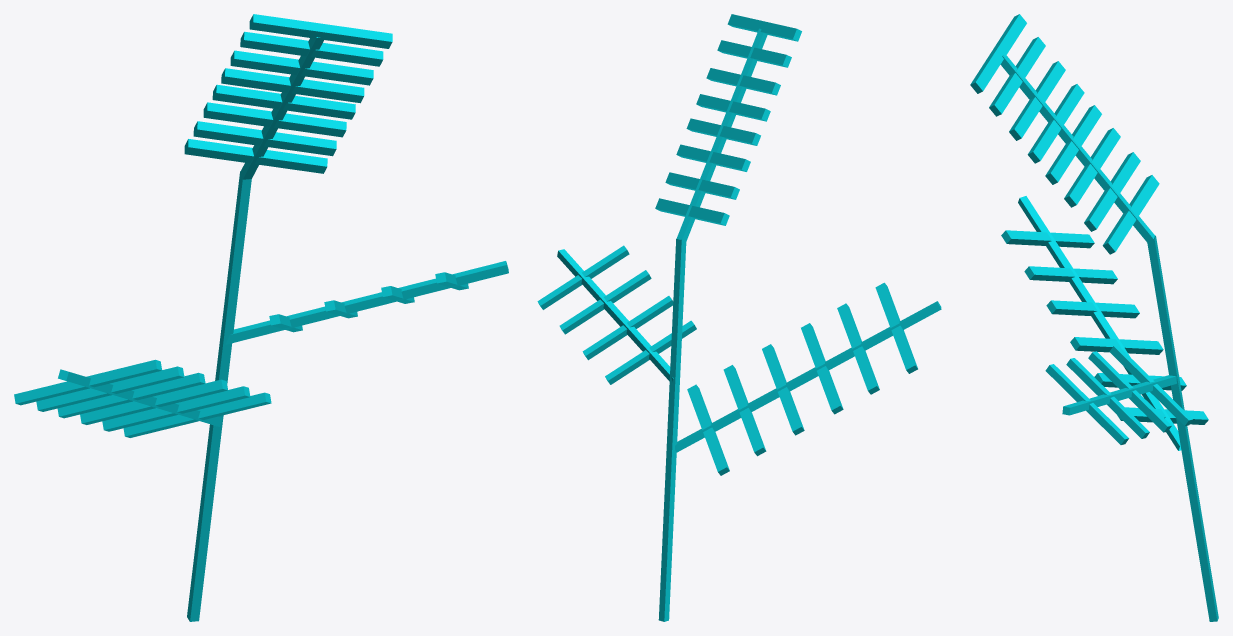
Rendered from Antenna1.fbx.
3 renders of one model, left to right at view 1: azimuth 30°, elevation 25°; view 2: azimuth 150°, elevation 25°; view 3: azimuth 270°, elevation 25°, orthographic. The views are drawn at different scales.
Visible parts, largest first — view 1: antenna1; view 2: antenna1; view 3: antenna1.
Boxes of the visible parts, bbox=[...] form: antenna1: bbox=[14, 14, 508, 621]; antenna1: bbox=[537, 14, 941, 621]; antenna1: bbox=[970, 14, 1218, 621].
Bounding box in the file's own units: 146 × 203 × 78.42.
